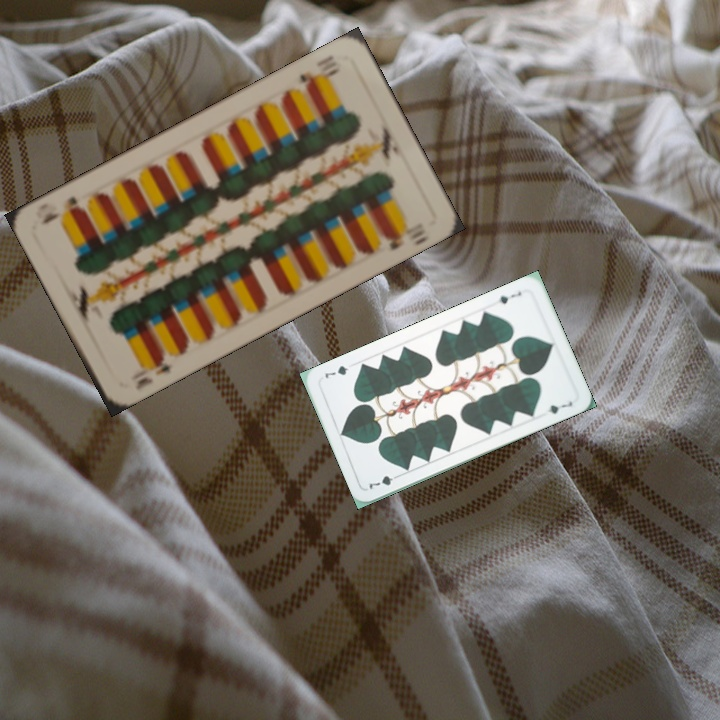E10: (131, 348, 176, 393), (295, 51, 342, 93)
G7: (365, 470, 403, 492), (495, 287, 524, 306)
